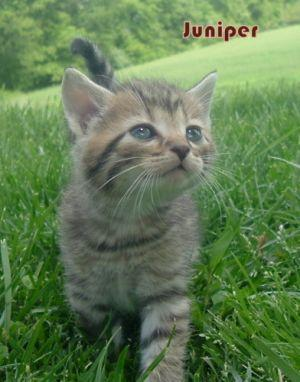bengal: (45, 58, 226, 214)
